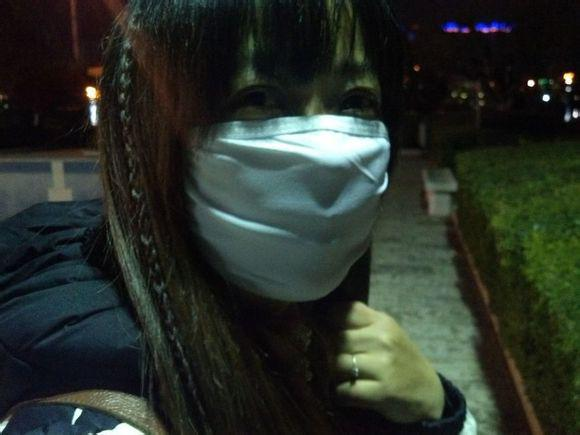OK: (178, 36, 395, 298)
